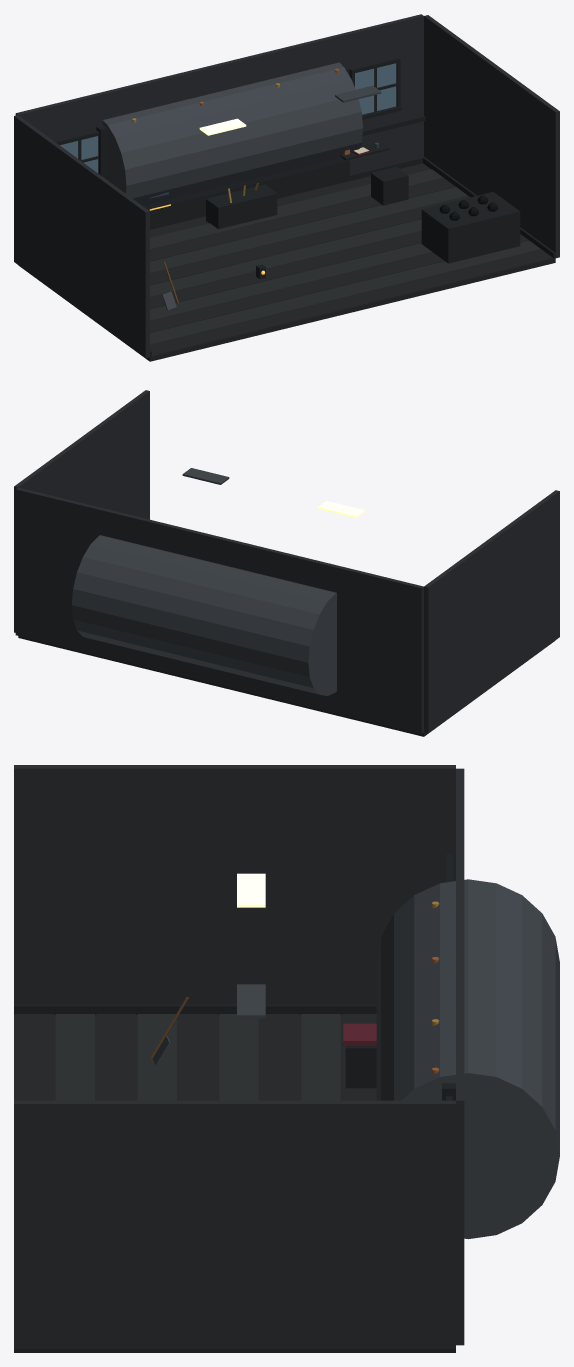
The model's file is cab.glb.
The picture shows the model from 3 angles, top to bottom: view 1: azimuth 30°, elevation 25°; view 2: azimuth 150°, elevation 25°; view 3: azimuth 270°, elevation 25°; orthographic projection. The views are drawn at different scales.
Visible parts, largest first — view 1: Boiler, WallLeft, WallRight, WallBack, Plank0, Bunker, Plank1, Plank7, Floor, Plank2, Plank6, Plank3 (+13 smaller); view 2: WallBack, Boiler, WallLeft, WallRight, Floor, CeilLamp1; view 3: WallRight, WallLeft, Boiler, WallBack, Floor, Plank0, Plank1, Plank2, Plank7, Plank4, Plank6, Plank5 (+7 smaller).
Boxes of the visible parts, <box> form: Boiler: <box>102,62,362,209</box>; WallLeft: <box>14,115,149,358</box>; WallRight: <box>424,15,559,258</box>; WallBack: <box>15,14,423,174</box>; Plank0: <box>150,249,553,356</box>; Bunker: <box>421,192,520,263</box>; Plank1: <box>150,240,541,344</box>; Plank7: <box>150,187,467,273</box>; Floor: <box>19,163,555,361</box>; Plank2: <box>150,234,528,332</box>; Plank6: <box>150,196,469,285</box>; Plank3: <box>150,243,431,320</box>; WallBack: <box>15,487,423,734</box>; Boiler: <box>71,535,336,695</box>; WallLeft: <box>424,490,559,733</box>; WallRight: <box>14,390,149,632</box>; Floor: <box>18,636,555,736</box>; CeilLamp1: <box>182,468,229,484</box>; WallRight: <box>14,1100,455,1348</box>; WallLeft: <box>14,765,455,1004</box>; Boiler: <box>376,879,559,1239</box>; WallBack: <box>456,768,464,1345</box>; Floor: <box>14,1015,455,1352</box>; Plank0: <box>14,1014,53,1100</box>; Plank1: <box>55,1014,94,1100</box>; Plank2: <box>96,1014,135,1100</box>; Plank7: <box>301,1014,340,1100</box>; Plank4: <box>178,1014,217,1100</box>; Plank6: <box>260,1014,299,1100</box>; Plank5: <box>219,1014,258,1100</box>.
Size of the model in its own units: 9.8 by 3.4 by 6.67.
